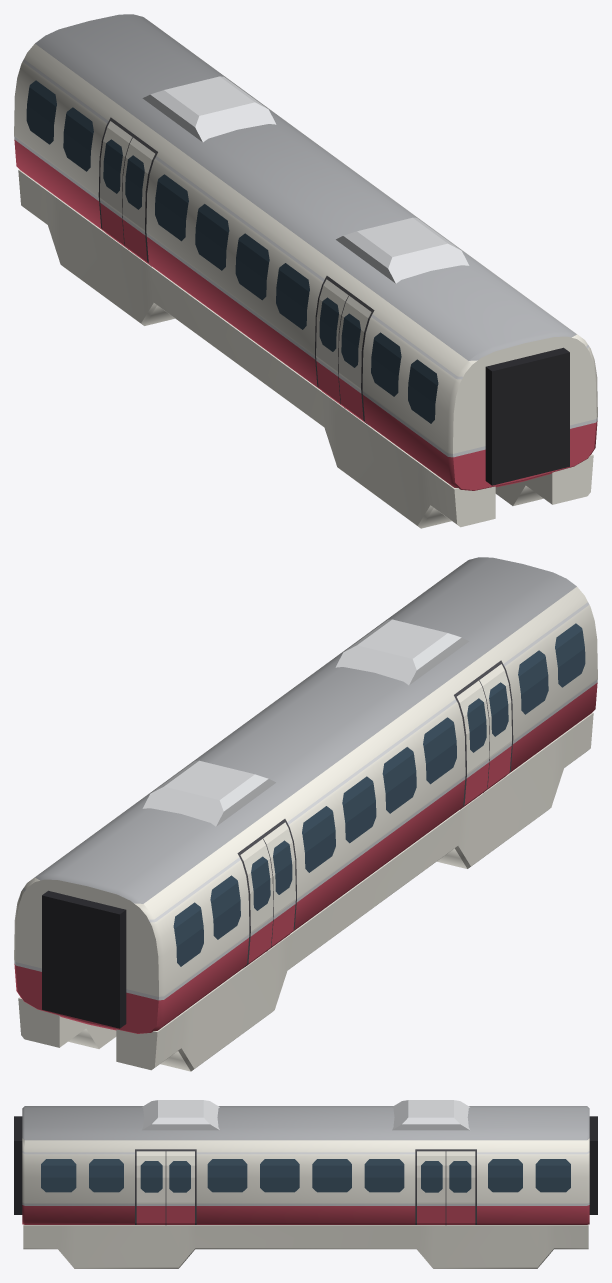
The picture shows the model from 3 angles, top to bottom: view 1: azimuth 30°, elevation 25°; view 2: azimuth 150°, elevation 25°; view 3: azimuth 270°, elevation 25°; orthographic projection. The views are drawn at different scales.
Parts seen in each view (by area): view 1: 321; view 2: 321; view 3: 321.
Boxes of the visible parts, box(x1,y1,x2,y2) form: 321: box(14, 14, 597, 528); 321: box(14, 557, 597, 1071); 321: box(14, 1100, 597, 1268).
Bounding box in the file's own units: 2.72 × 3.7 × 14.
